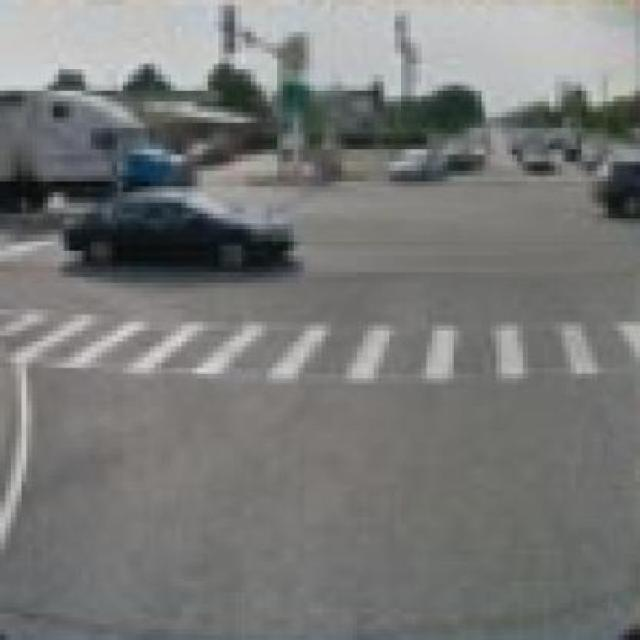crosswalk: (1, 308, 640, 383)
